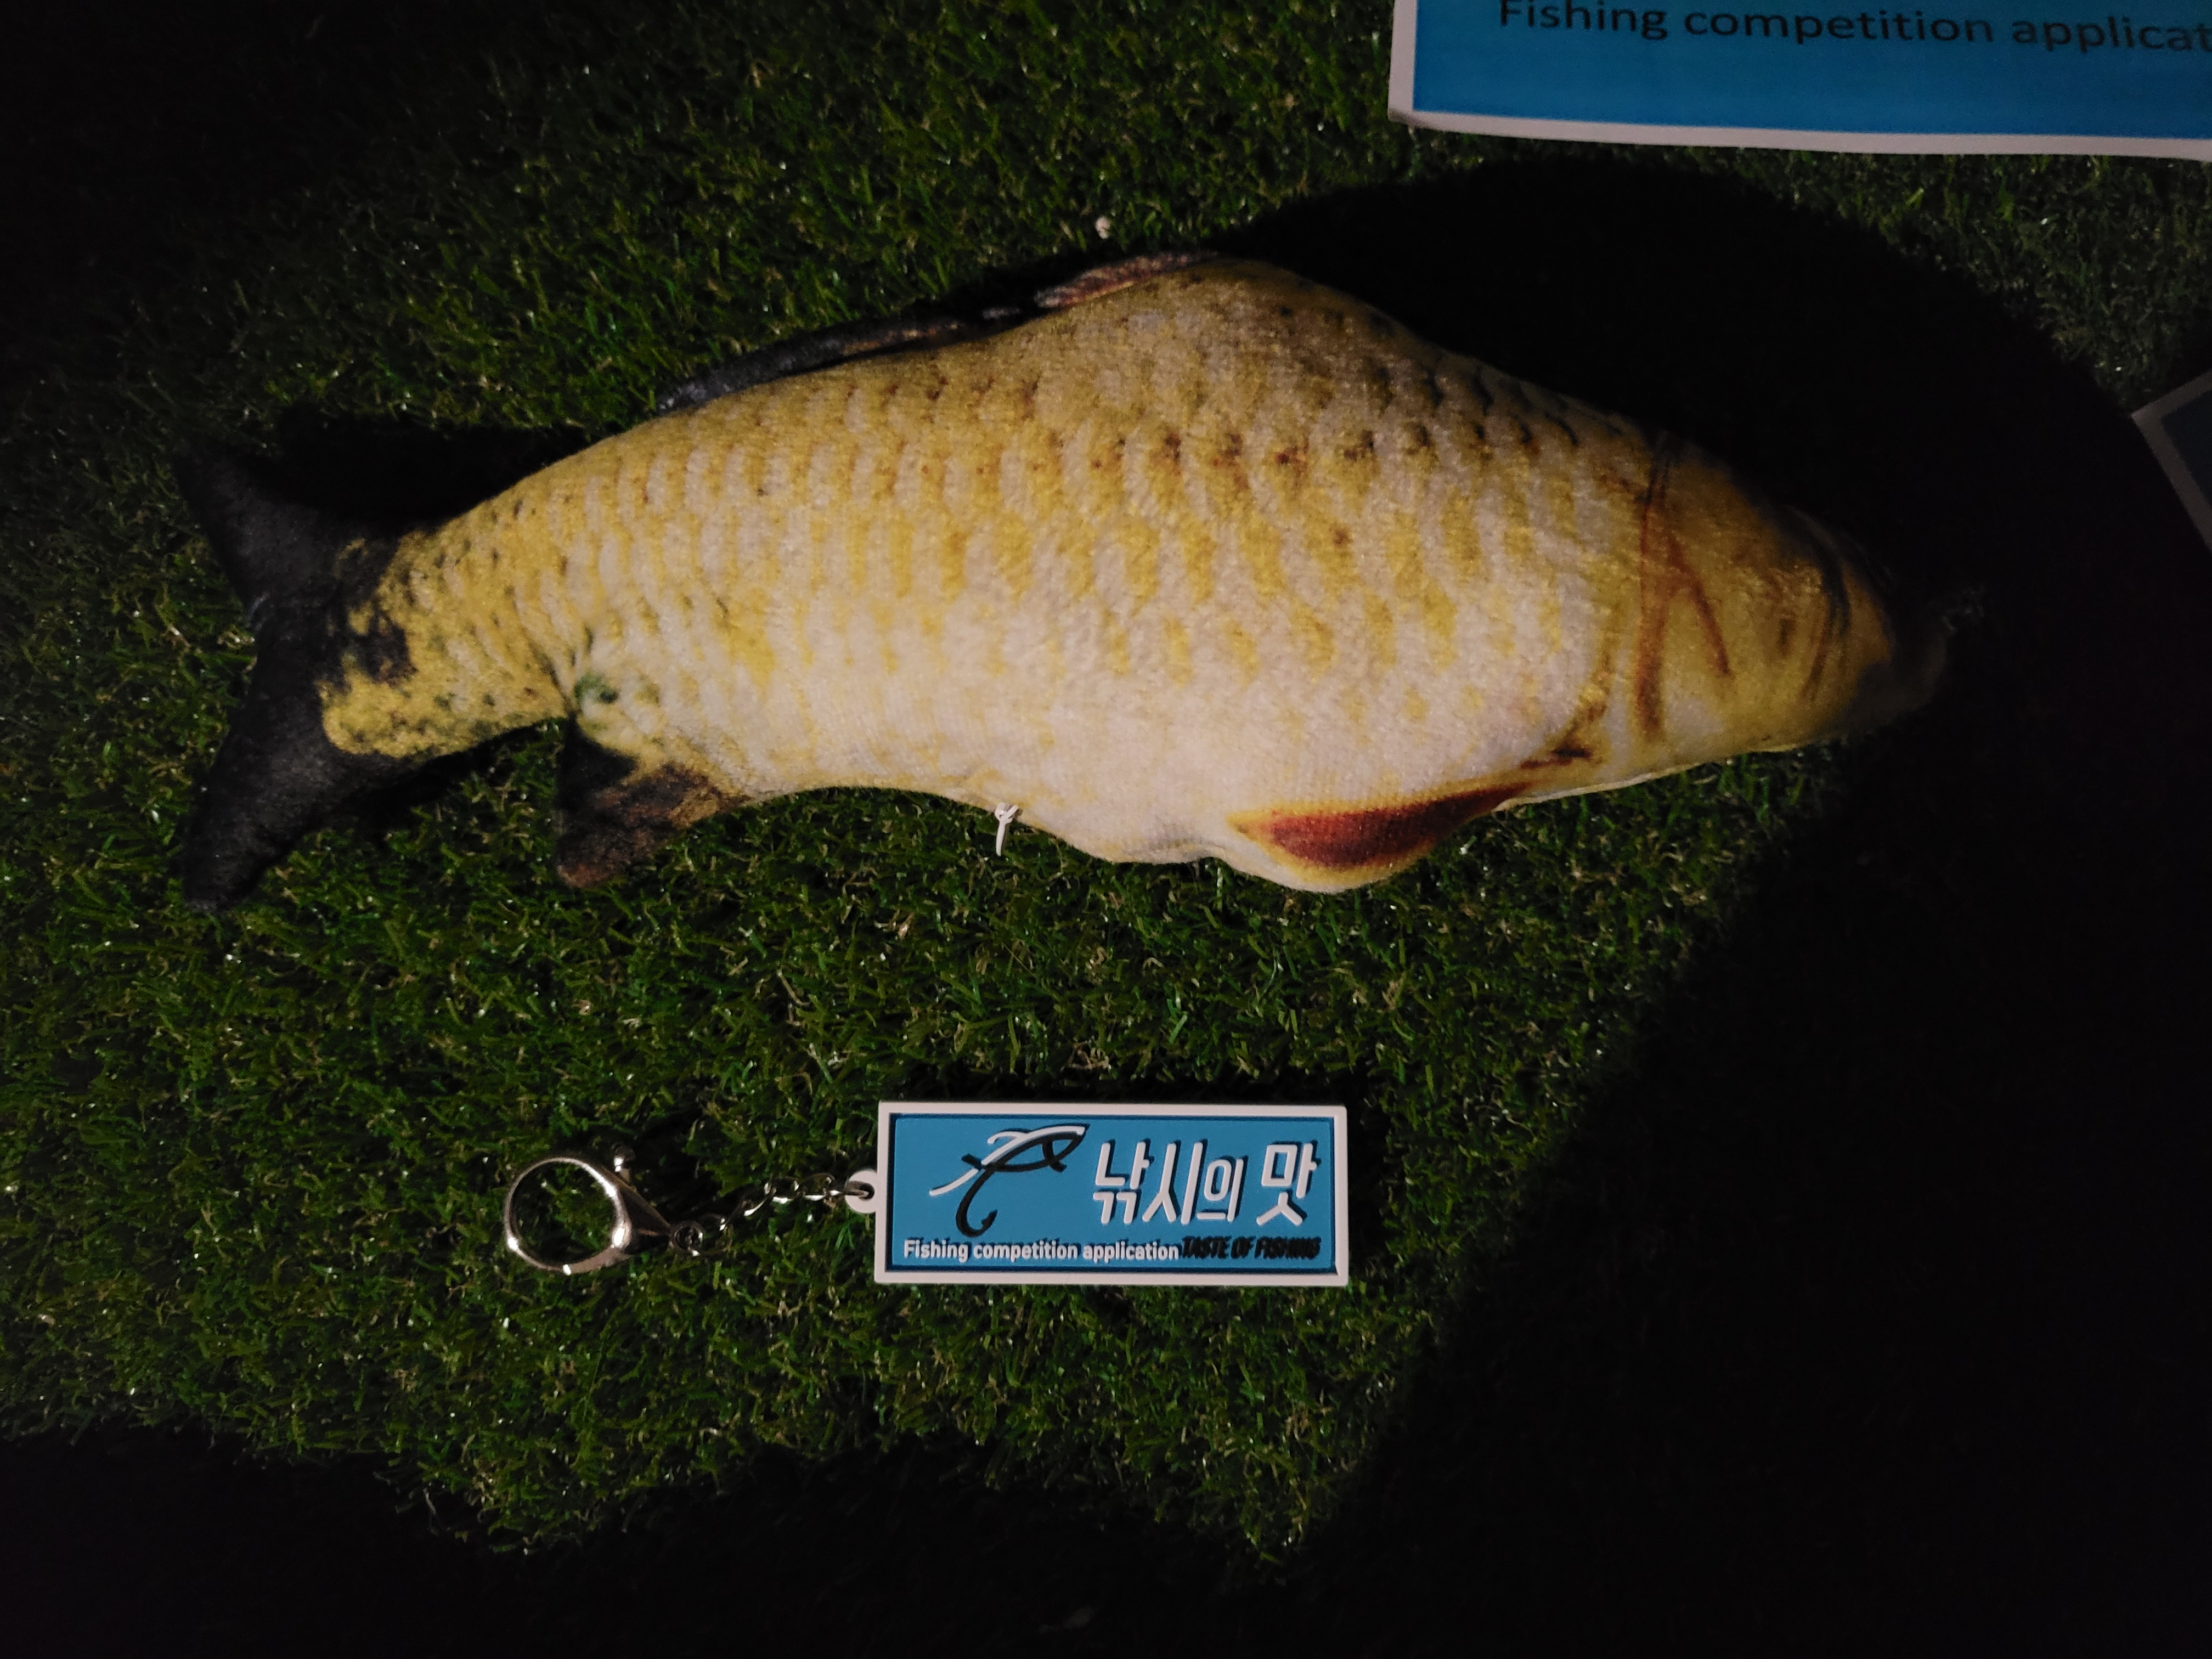fish: (179, 263, 1951, 901)
tag: (867, 1100, 1350, 1284)
